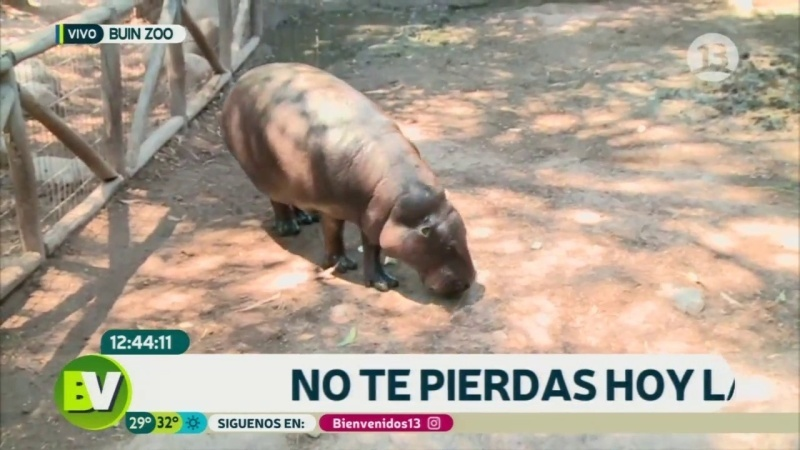hipopotamo: (210, 50, 493, 308)
